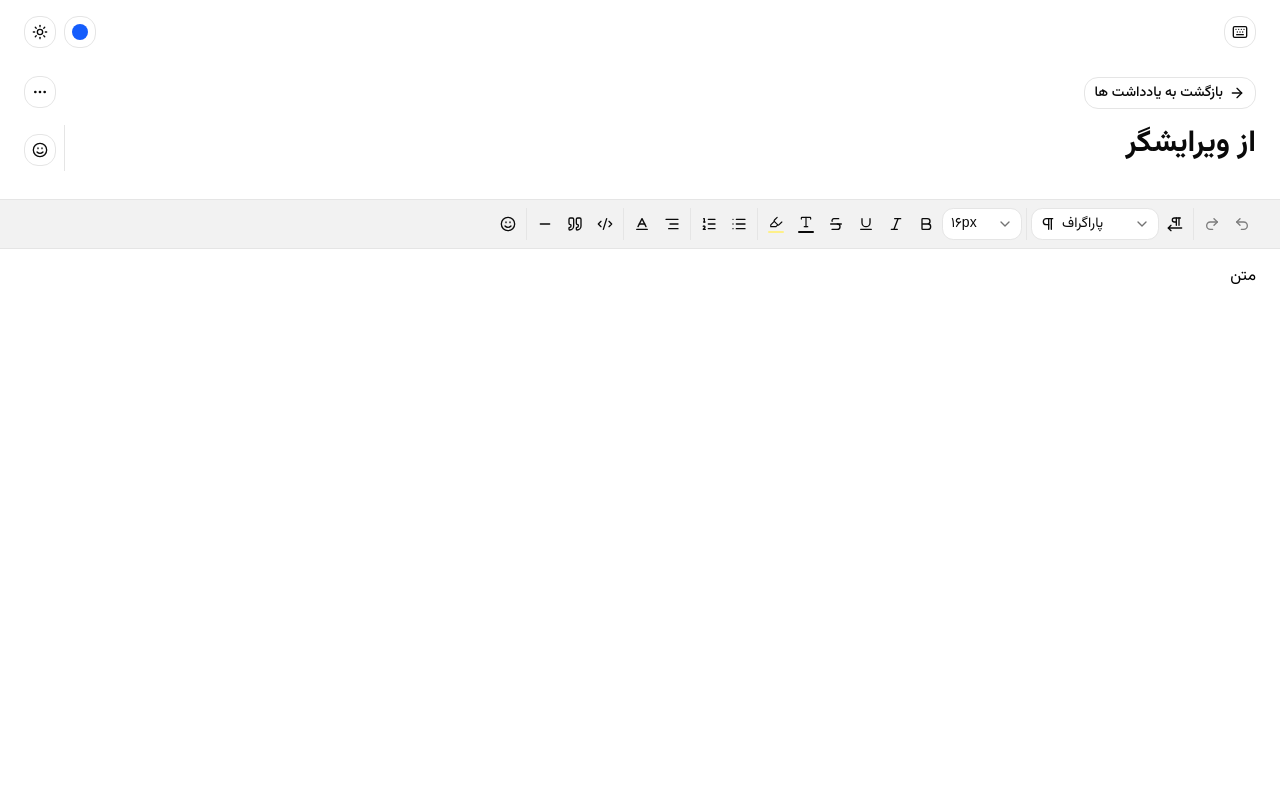
Scenario: deleting from the editor menu › asks for confirmation before deleting
The width and height of the screenshot is (1280, 800).
Check: the field named "متن یادداشت" is shown, box [1230, 264, 1256, 288]
Press the mouse on the button named "گزینه های یادداشت از ویرایشگر" at (40, 92), box [24, 76, 56, 108]
Click the button named "گزینه های یادداشت از ویرایشگر" at (40, 92), box [24, 76, 56, 108]
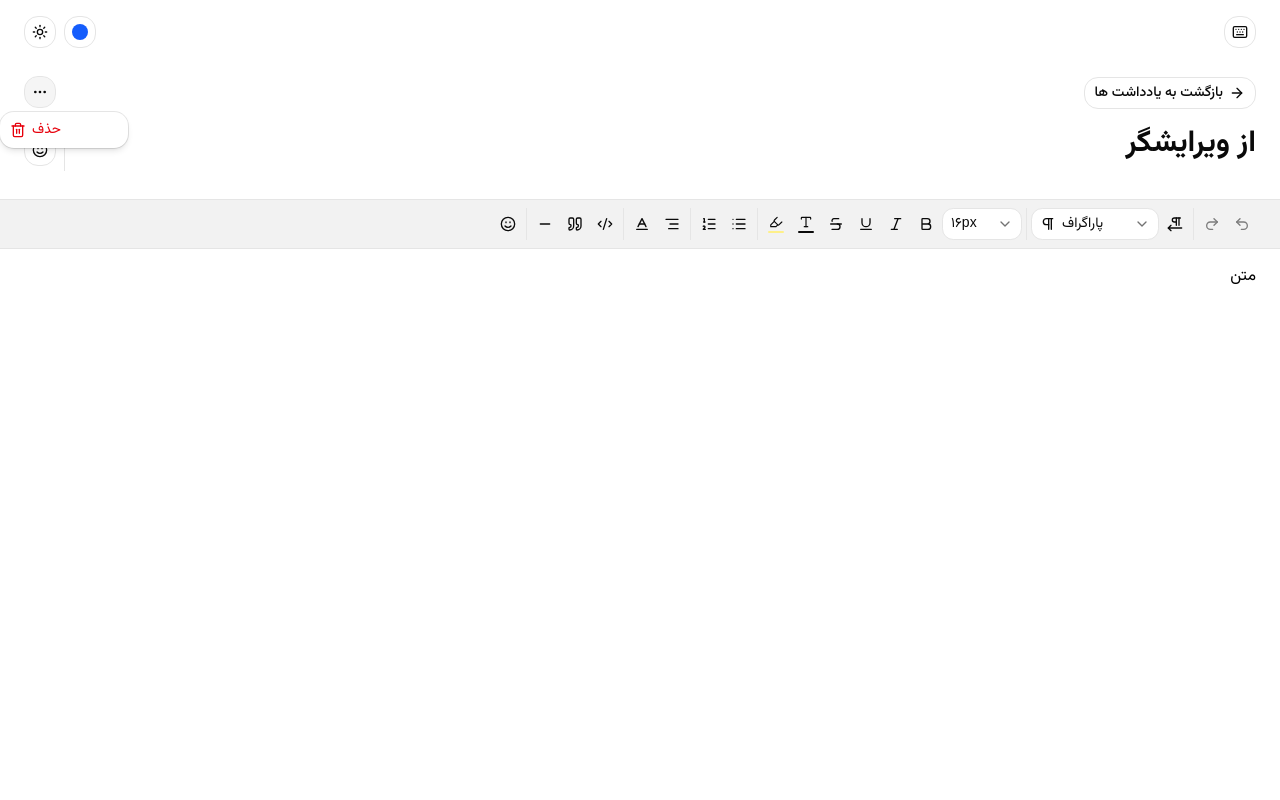
Click the menu item "حذف" at (36, 130), box [10, 120, 61, 140]
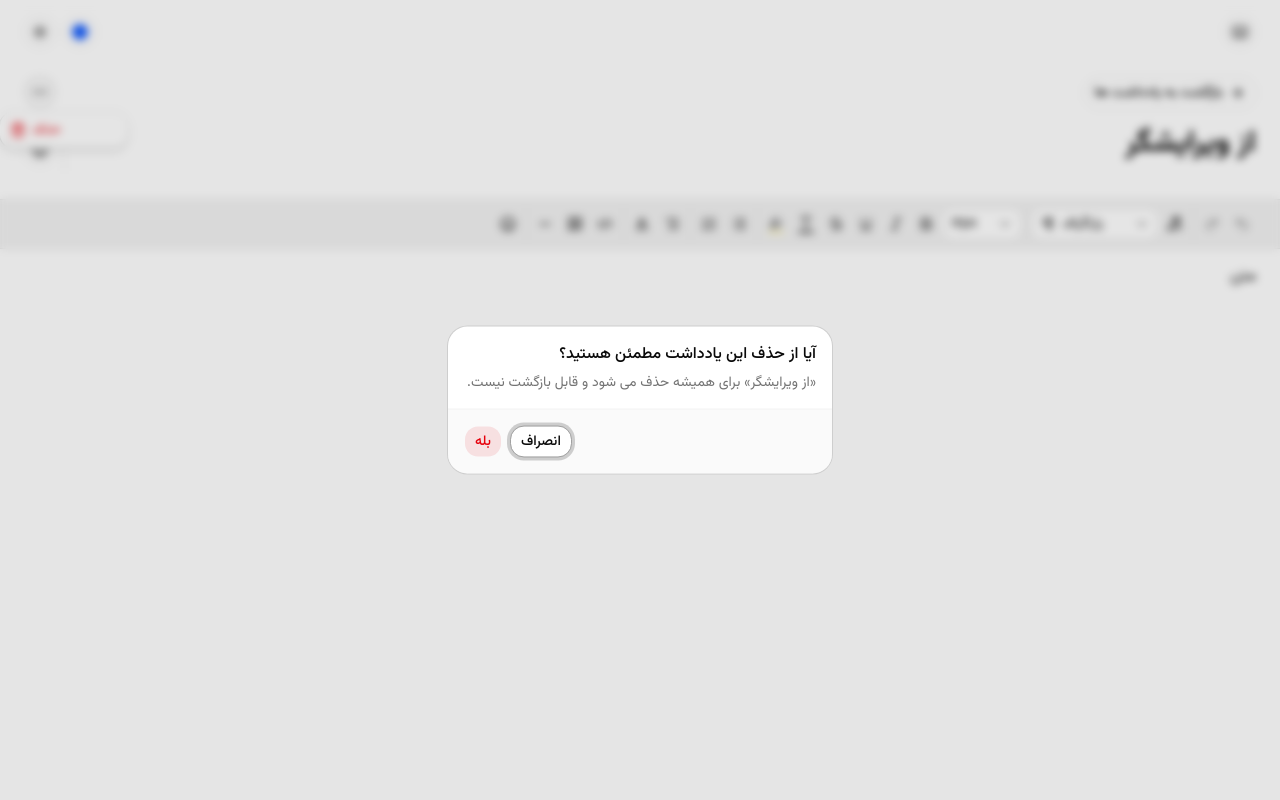
Check: the heading "آیا از حذف این یادداشت مطمئن هستید؟" is shown, box [559, 342, 816, 366]
